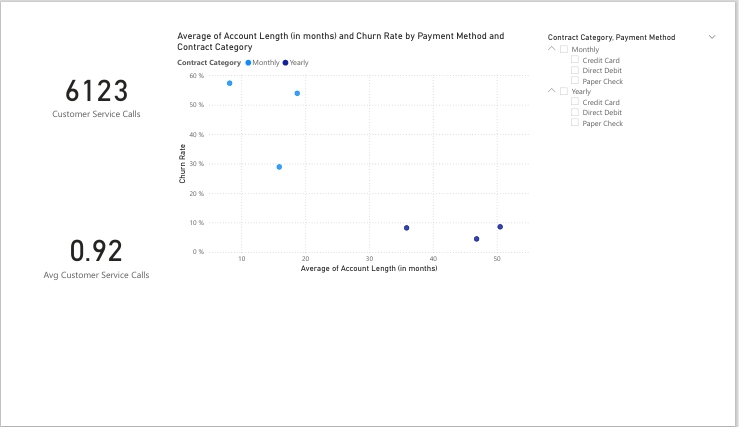

What the dashboard file says about the page in this screenshot:
{"tool":"powerbi","page":{"name":"Payment and Contract","canvas":[1280,720],"ordinal":2},"visuals":[{"type":"card","fields":{"Values":["Sum(Databel - Data.Customer Service Calls)"]},"box":[10,0,280,280],"z":0},{"type":"card","fields":{"Values":["Databel - Data.Avg Customer Service Calls"]},"box":[10,290,280,280],"z":1000},{"type":"scatterChart","fields":{"Y":["Databel - Data.Churn Rate"],"X":["Databel - Data.Account Length (in months)"],"Category":["Databel - Data.Payment Method"],"Series":["Databel - Data.Contract Category"]},"box":[290.9,29.1,650.7,442.5],"z":2000},{"type":"slicer","fields":{"Values":["Databel - Data.Contract Category","Databel - Data.Payment Method"]},"box":[952,29,328,442],"z":3000}]}

Visuals, with their boxes in screenshot pixels (x1, y1, x2, y2), scaled from the page's 1280x720 canvas onto the 739x427 screenshot:
card - Sum(Databel - Data.Customer Service Calls): {"left": 6, "top": 0, "right": 167, "bottom": 166}
card - Databel - Data.Avg Customer Service Calls: {"left": 6, "top": 172, "right": 167, "bottom": 338}
scatterChart - Databel - Data.Churn Rate x Databel - Data.Account Length (in months): {"left": 168, "top": 17, "right": 544, "bottom": 280}
slicer - Databel - Data.Contract Category x Databel - Data.Payment Method: {"left": 550, "top": 17, "right": 738, "bottom": 279}
